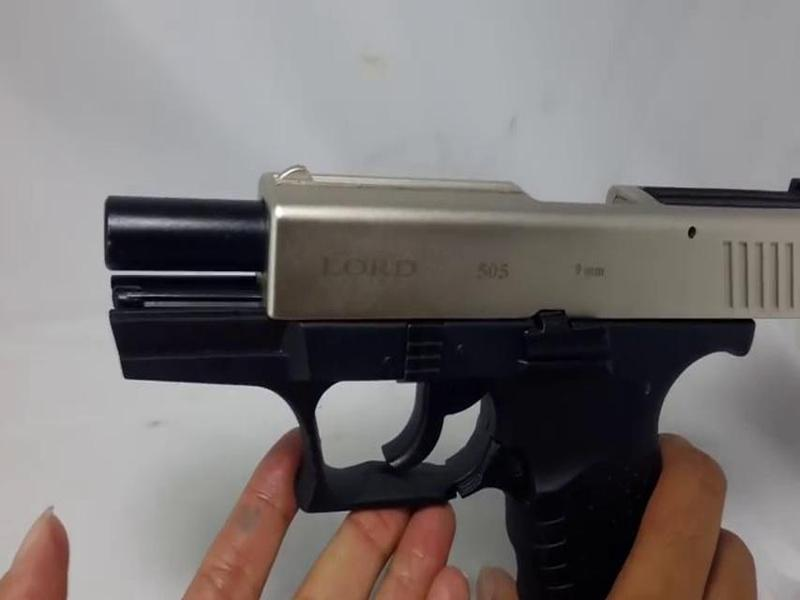Pistola: (97, 152, 800, 593)
